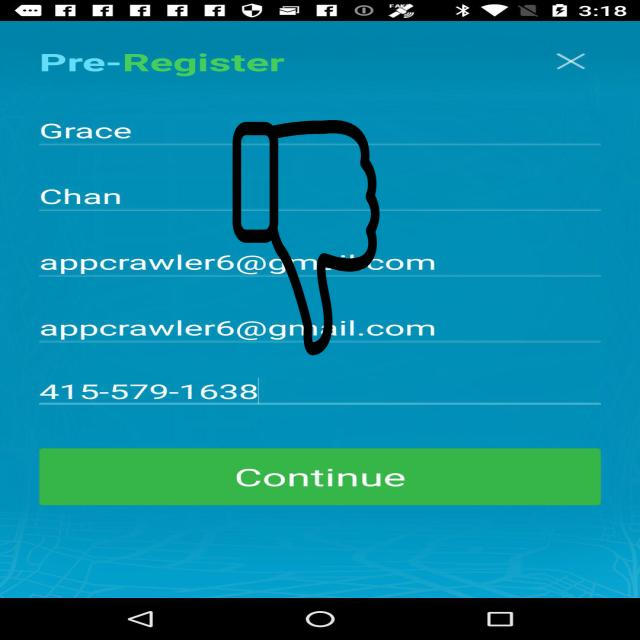obstruction: (230, 120, 382, 355)
